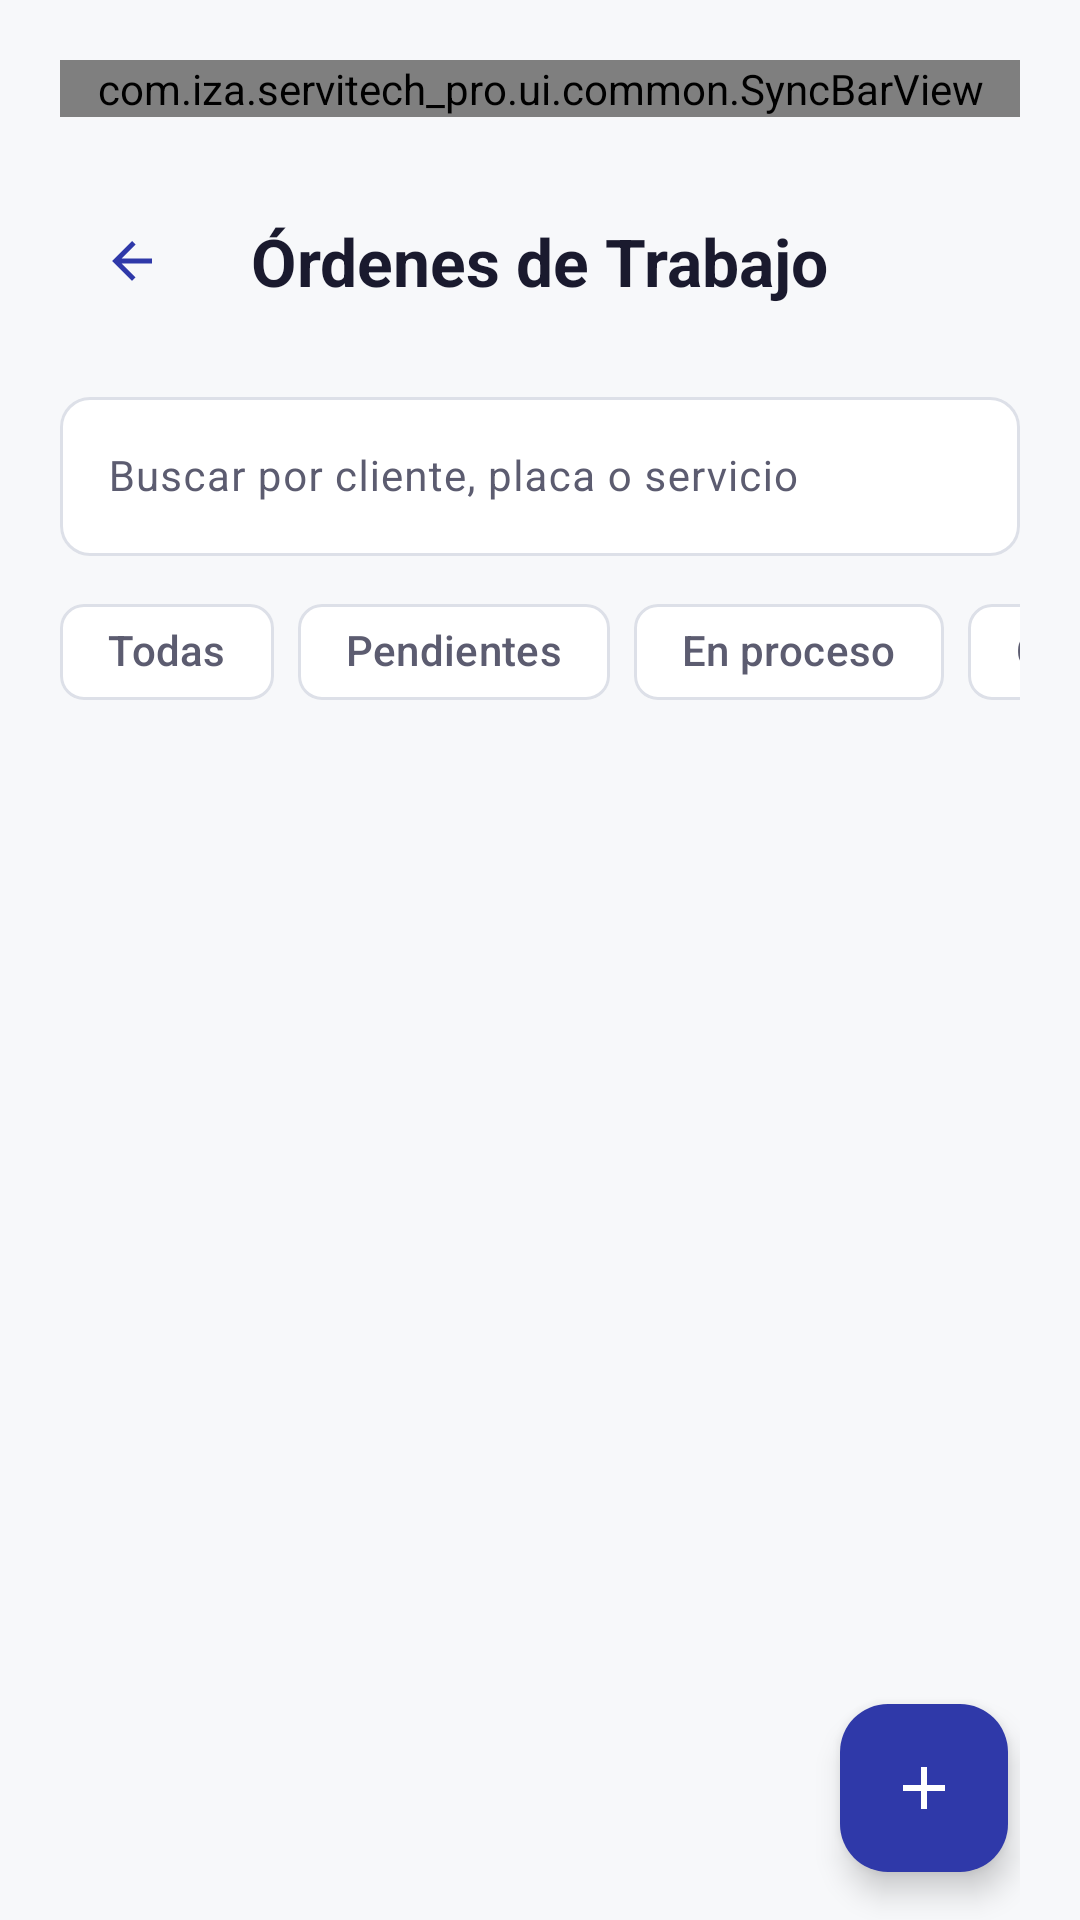

Screen size 1080w x 1920h. Icon name, then its center in pixels as (x,y):
arrow back: (132,261)
Nueva orden: (924,1788)
